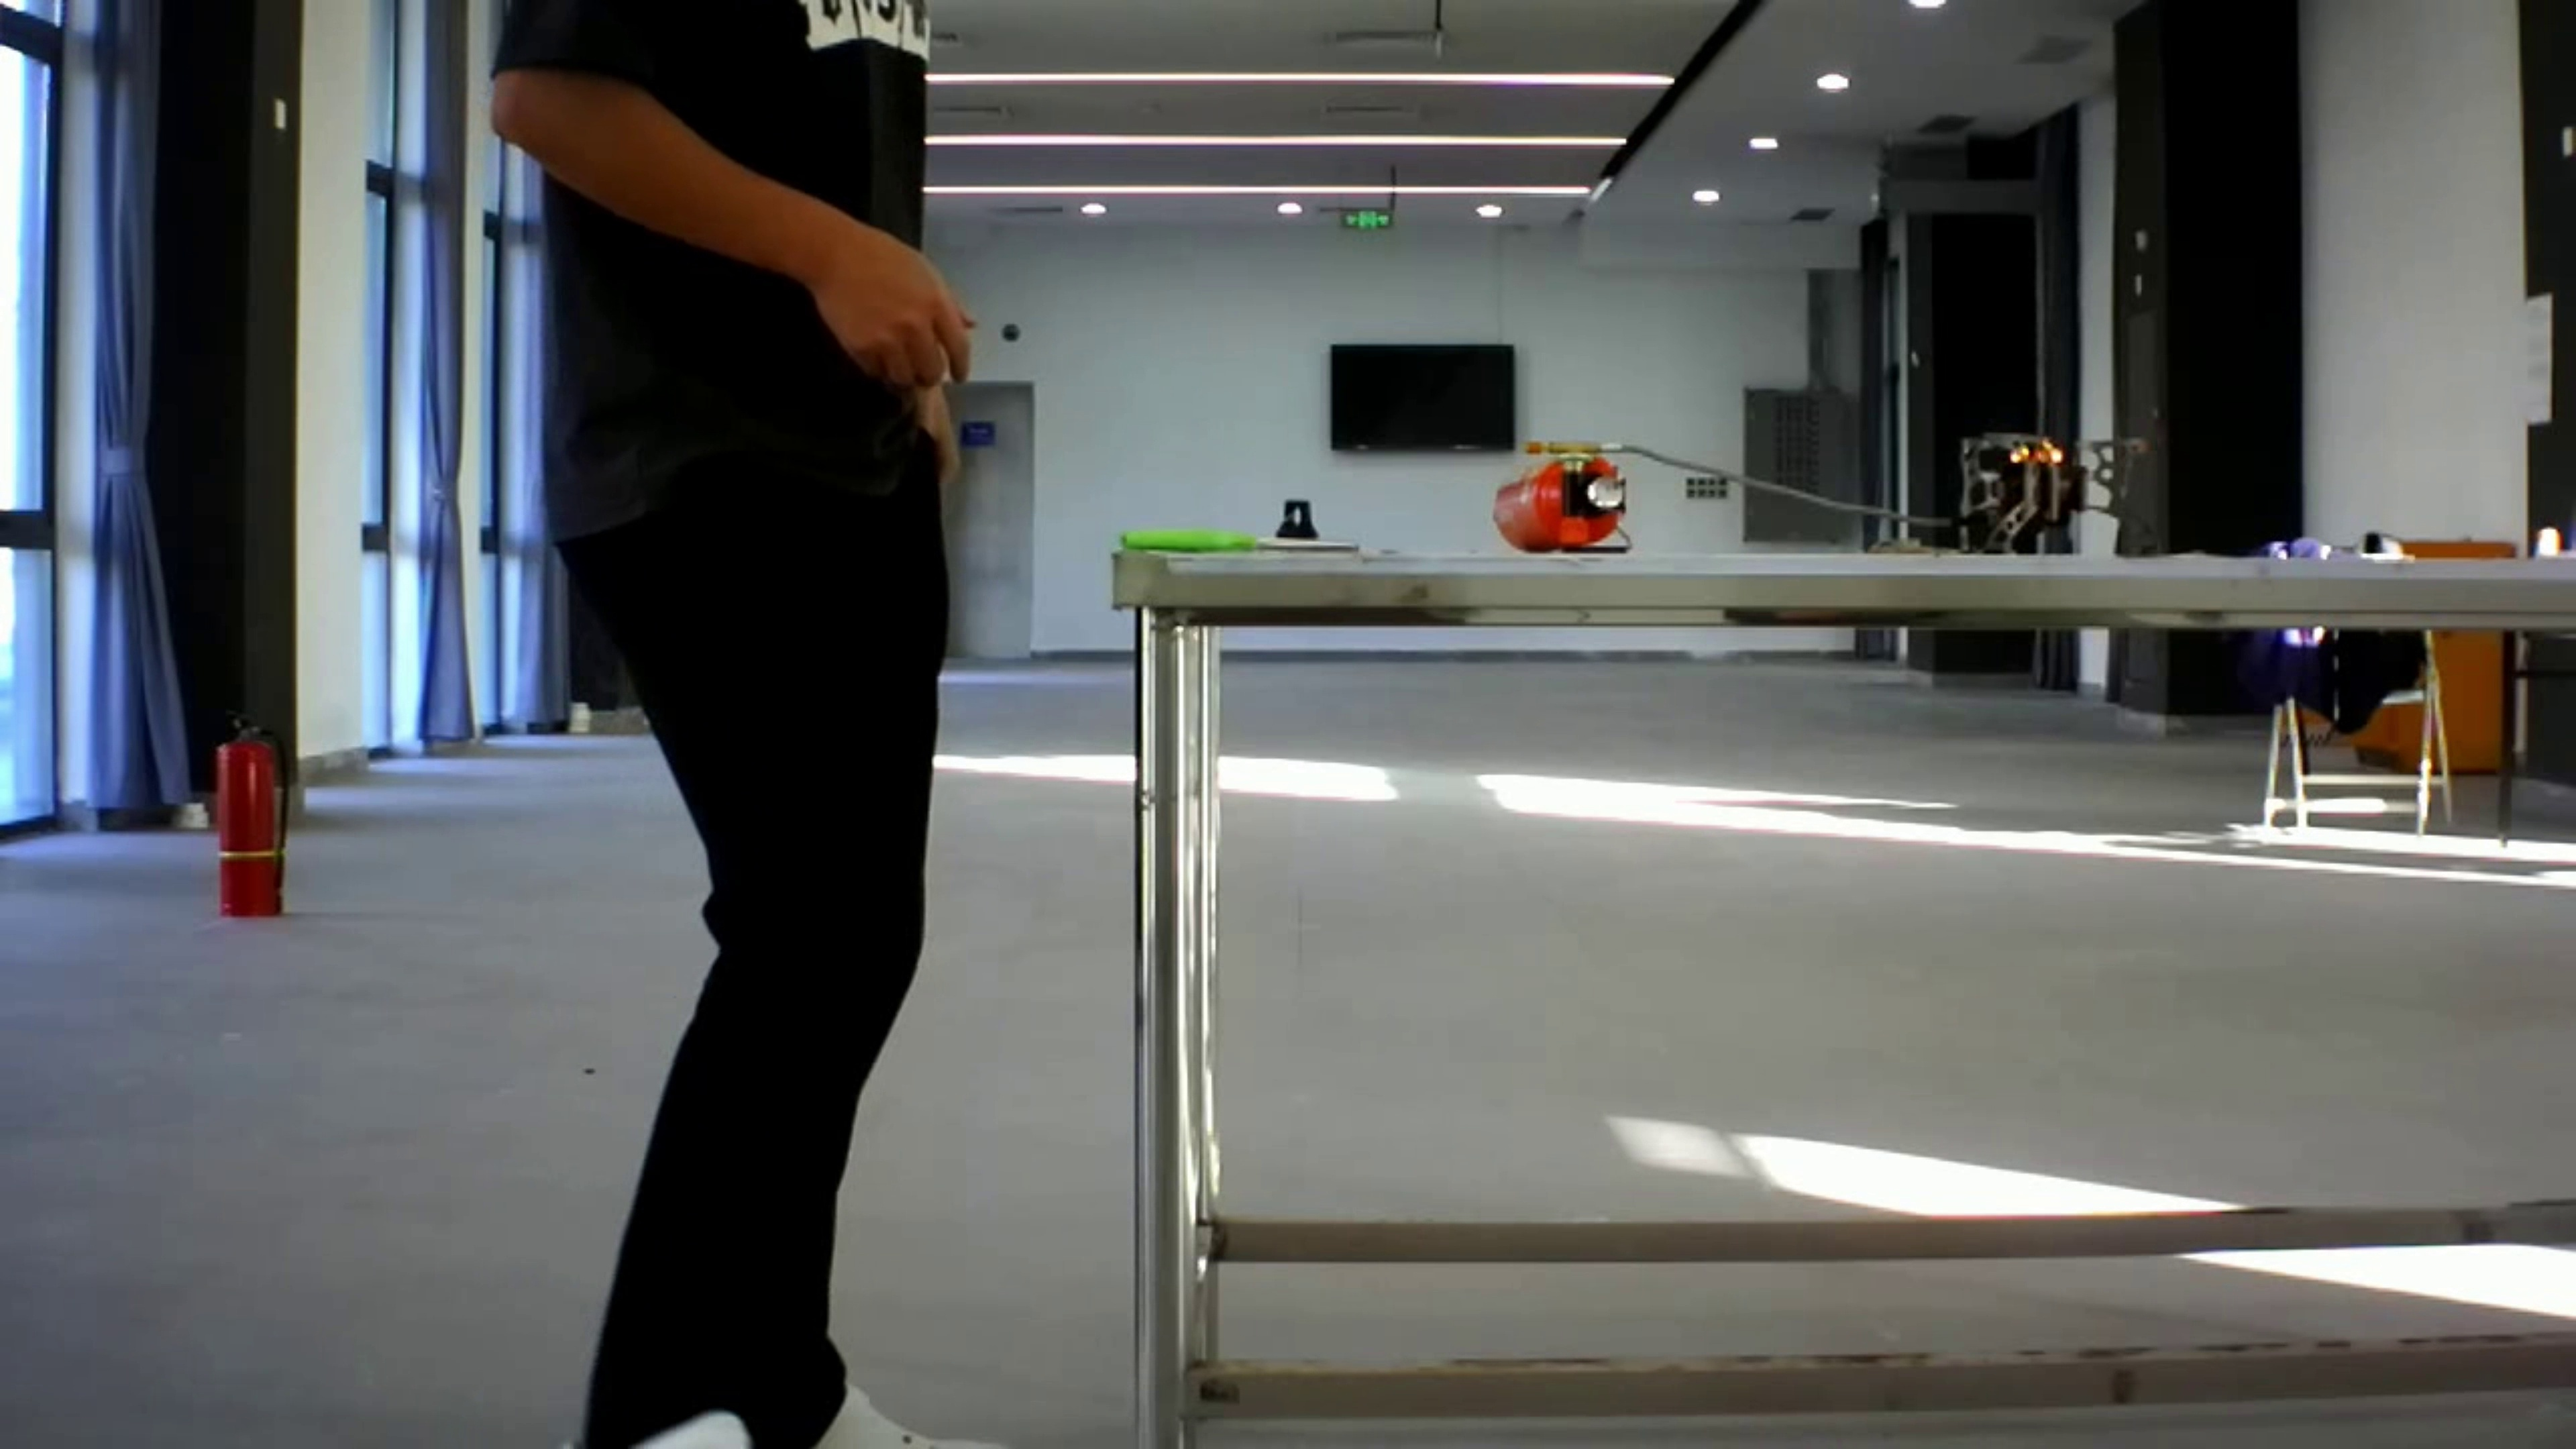Fire: (1983, 421, 2091, 472)
